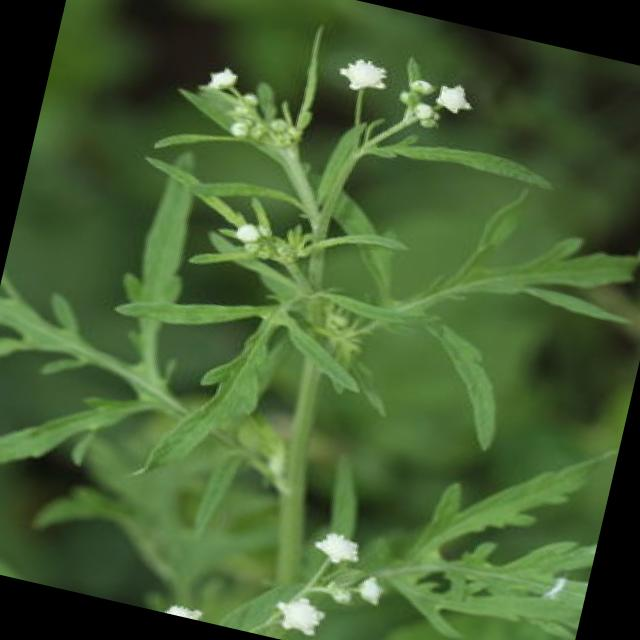Poisonous-Parthenium: (122, 6, 542, 382), (166, 367, 616, 640)
